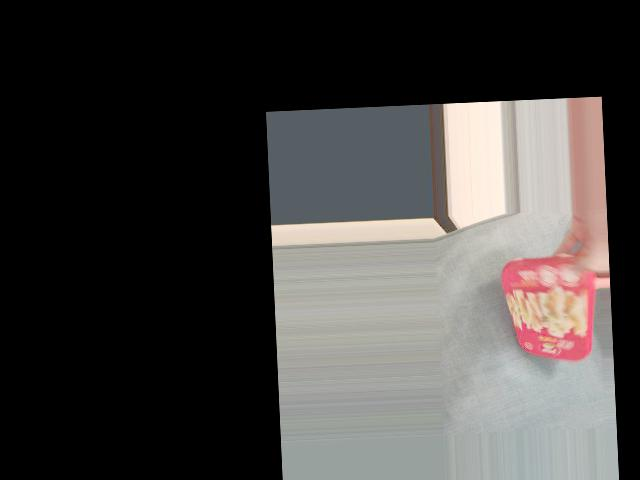cheese: (504, 248, 597, 362)
